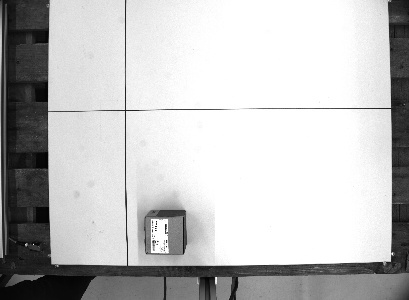b7: (140, 207, 190, 260)
